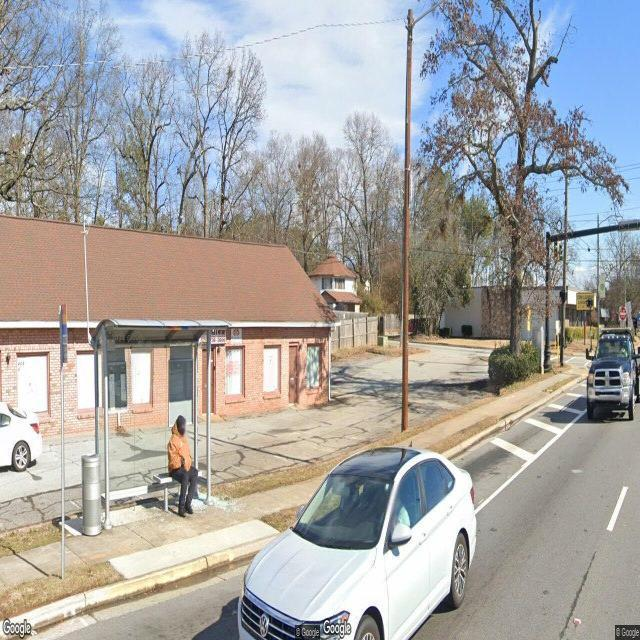seating: (152, 469, 202, 513)
shelter: (91, 318, 225, 530)
trash_can: (82, 454, 100, 536)
